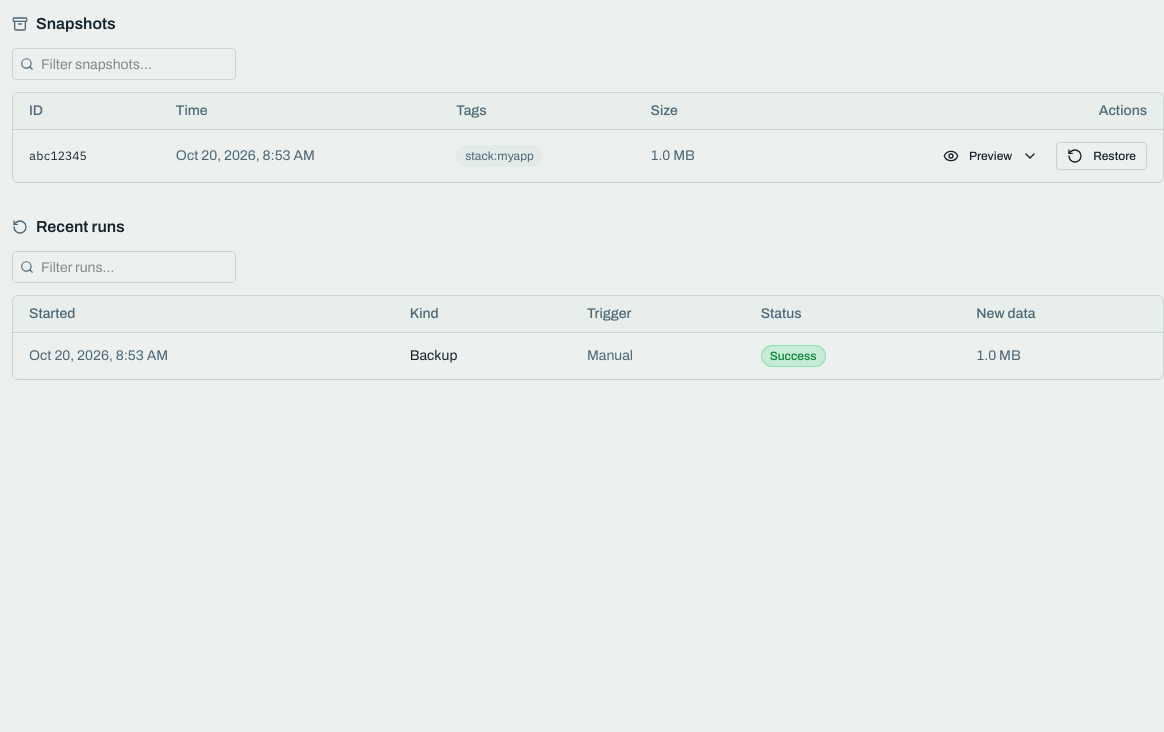
Test: BackupsTab — preview panel names the repository fault › names a rejected password rather than offering to initialise over the repository
This screenshot has width=1164, height=732.
Click the button with aria-label "show preview" at x=991, y=156, box [933, 142, 1048, 170]
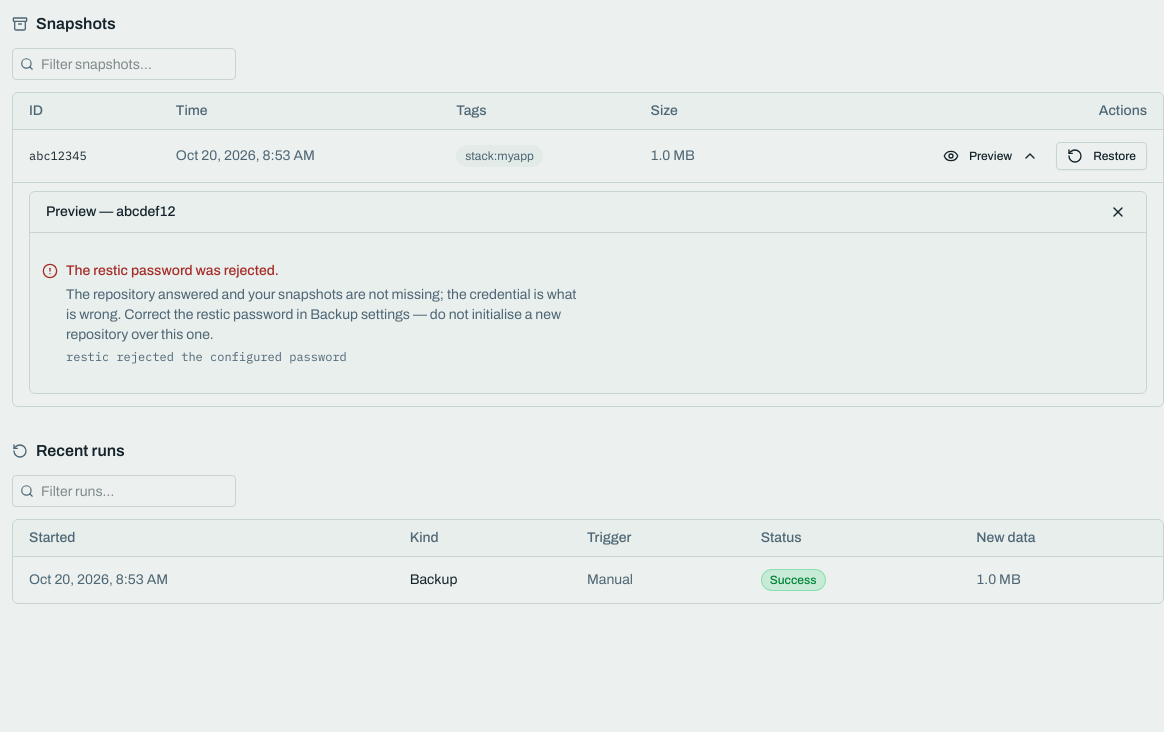
Now the text "The restic password was rejected." is shown, box [66, 263, 279, 278]
